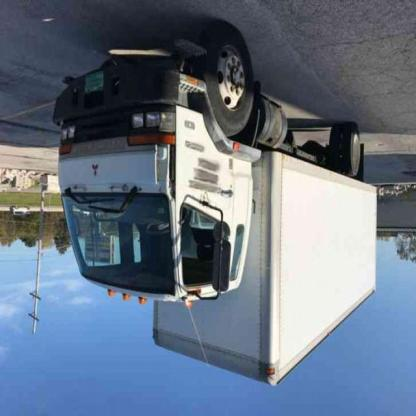truck: (54, 28, 378, 390)
